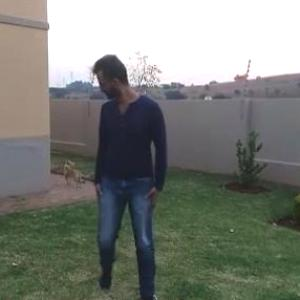follow: (86, 50, 166, 288)
